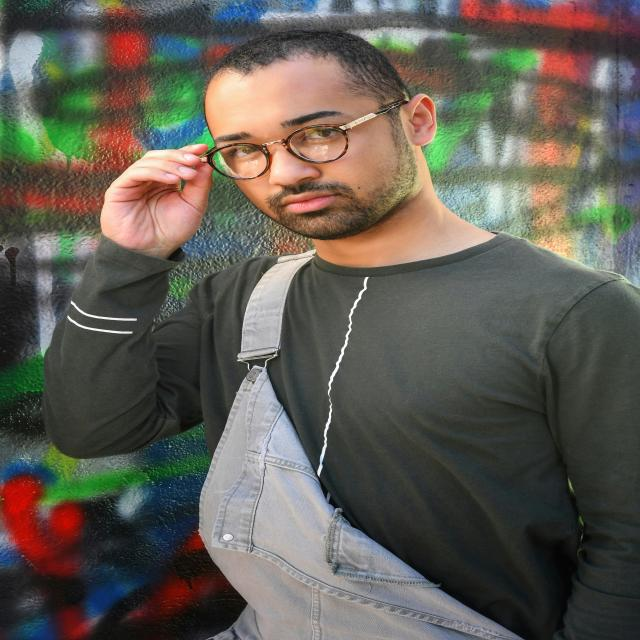human: (31, 23, 640, 640)
